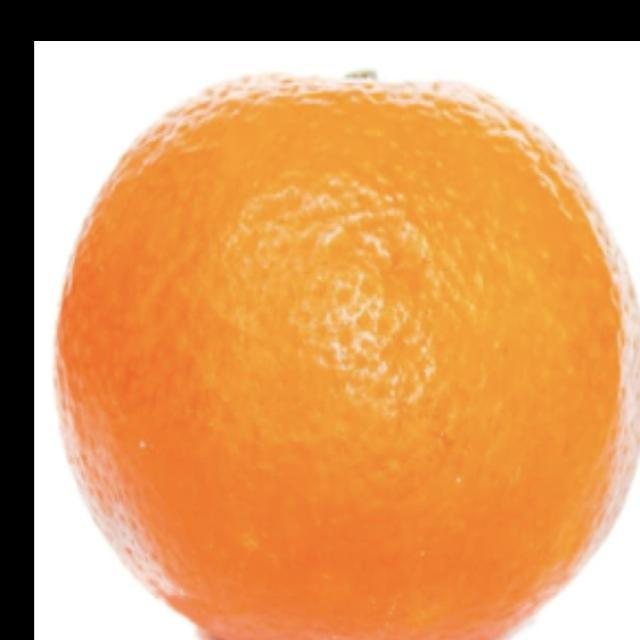Orange: (52, 69, 639, 639)
